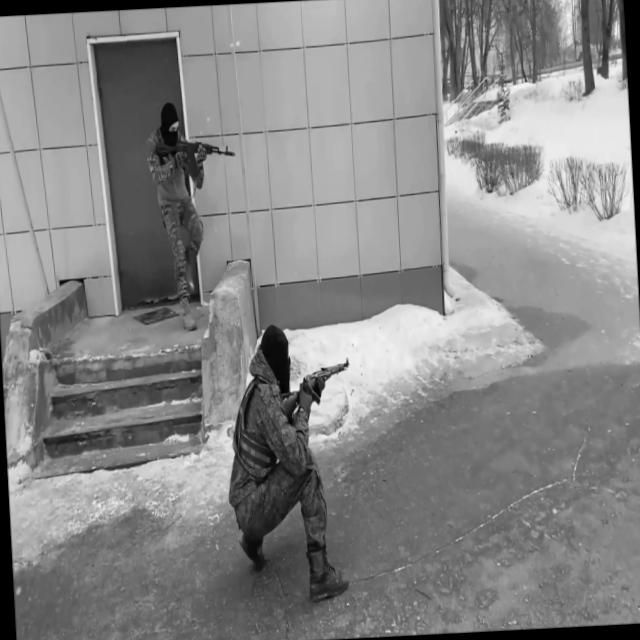gun: (276, 354, 354, 425), (156, 130, 238, 182)
person: (221, 318, 351, 607), (145, 98, 218, 334)
person with a gun: (222, 317, 364, 606), (145, 96, 247, 334)
